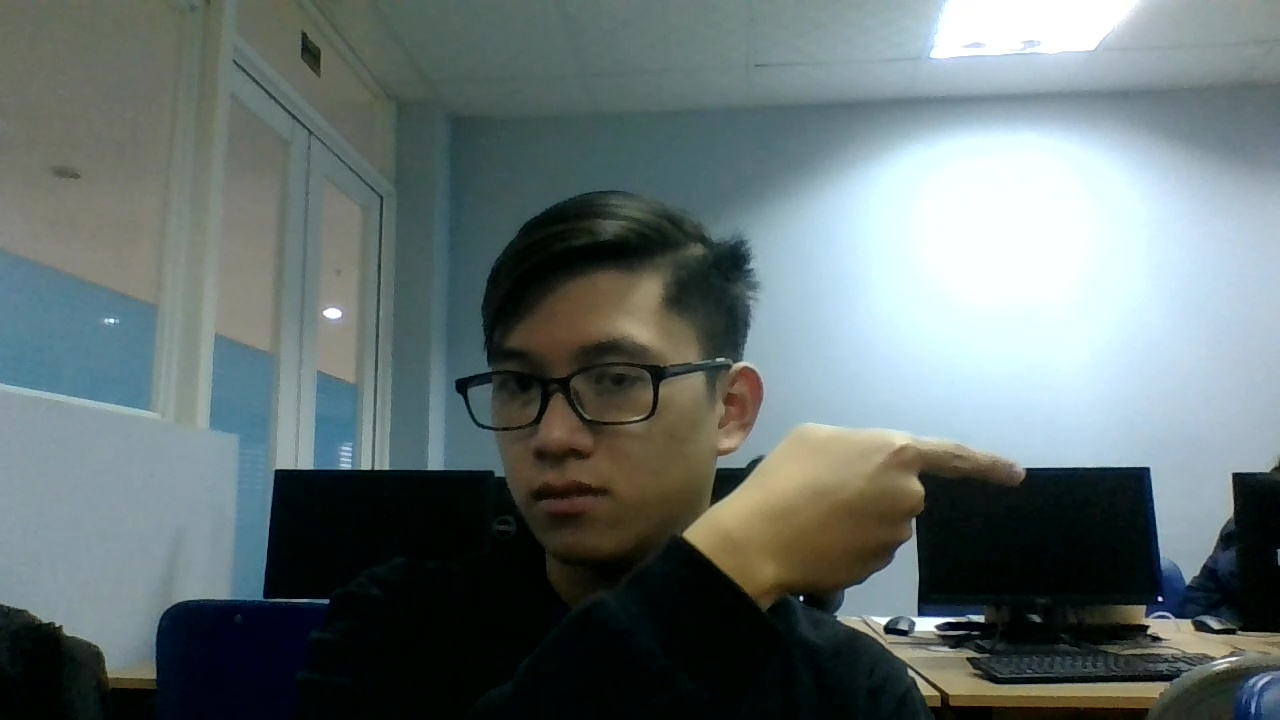left: (758, 410, 1027, 590)
